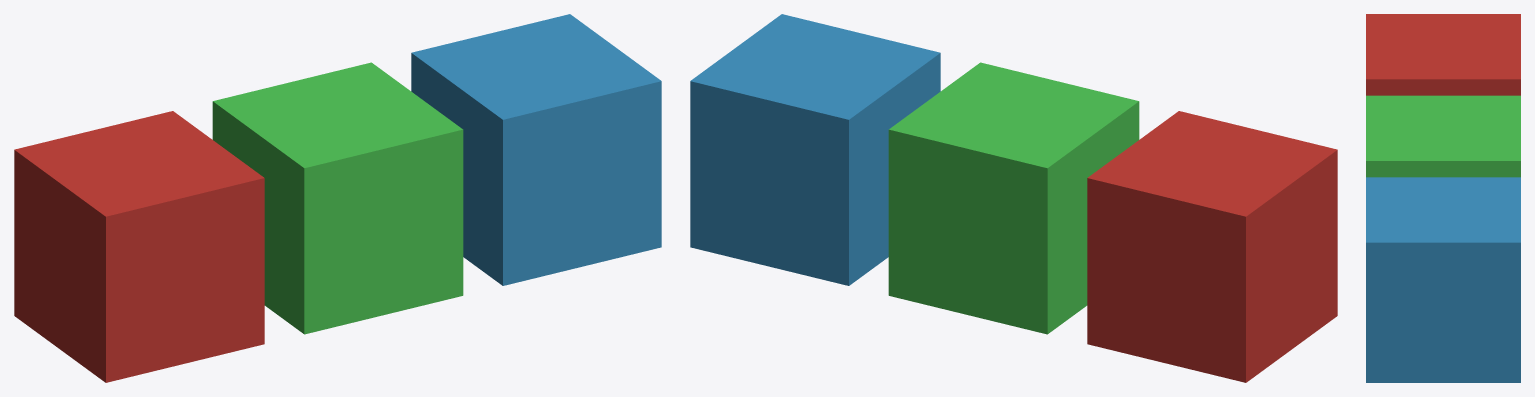
3 views of the same model, side by side, from view 1: azimuth 30°, elevation 25°; view 2: azimuth 150°, elevation 25°; view 3: azimuth 270°, elevation 25° (orthographic). The views are drawn at different scales.
Parts seen in each view (by area): view 1: RedCube, GreenCube, BlueCube; view 2: RedCube, GreenCube, BlueCube; view 3: BlueCube, GreenCube, RedCube.
Part boxes in pixels (left/top/right/bottom): RedCube: left=14, top=111, right=264, bottom=382; GreenCube: left=212, top=62, right=463, bottom=334; BlueCube: left=411, top=14, right=661, bottom=285; RedCube: left=1087, top=111, right=1337, bottom=382; GreenCube: left=888, top=62, right=1139, bottom=334; BlueCube: left=690, top=14, right=940, bottom=285; BlueCube: left=1366, top=177, right=1520, bottom=382; GreenCube: left=1366, top=95, right=1520, bottom=177; RedCube: left=1366, top=14, right=1520, bottom=95.
Bounding box in the file's own units: 0.7 × 0.2 × 0.2.
